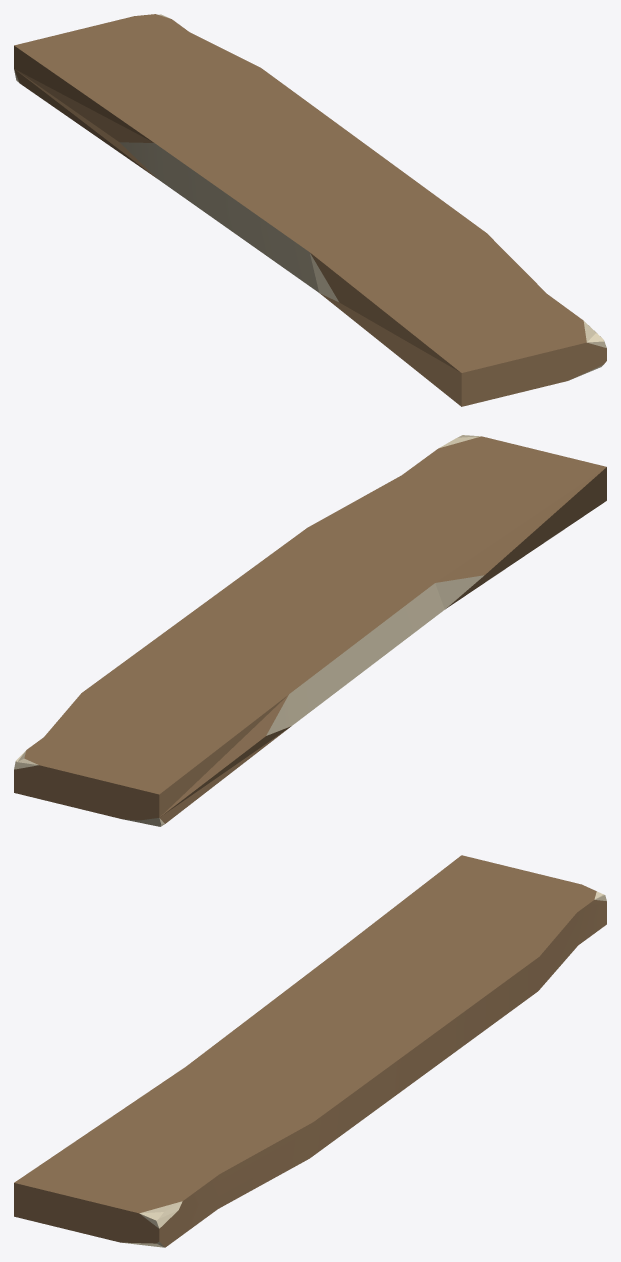
File: Plank1.fbx
The picture shows the model from 3 angles, top to bottom: view 1: azimuth 30°, elevation 25°; view 2: azimuth 150°, elevation 25°; view 3: azimuth 330°, elevation 25°; orthographic projection.
Visible parts, largest first — view 1: 1; view 2: 1; view 3: 1.
Boxes of the visible parts, <box> form: 1: <box>14,14,606,406</box>; 1: <box>14,435,606,826</box>; 1: <box>14,855,606,1247</box>.
Size of the model in its own units: 50.45 by 10 by 240.
